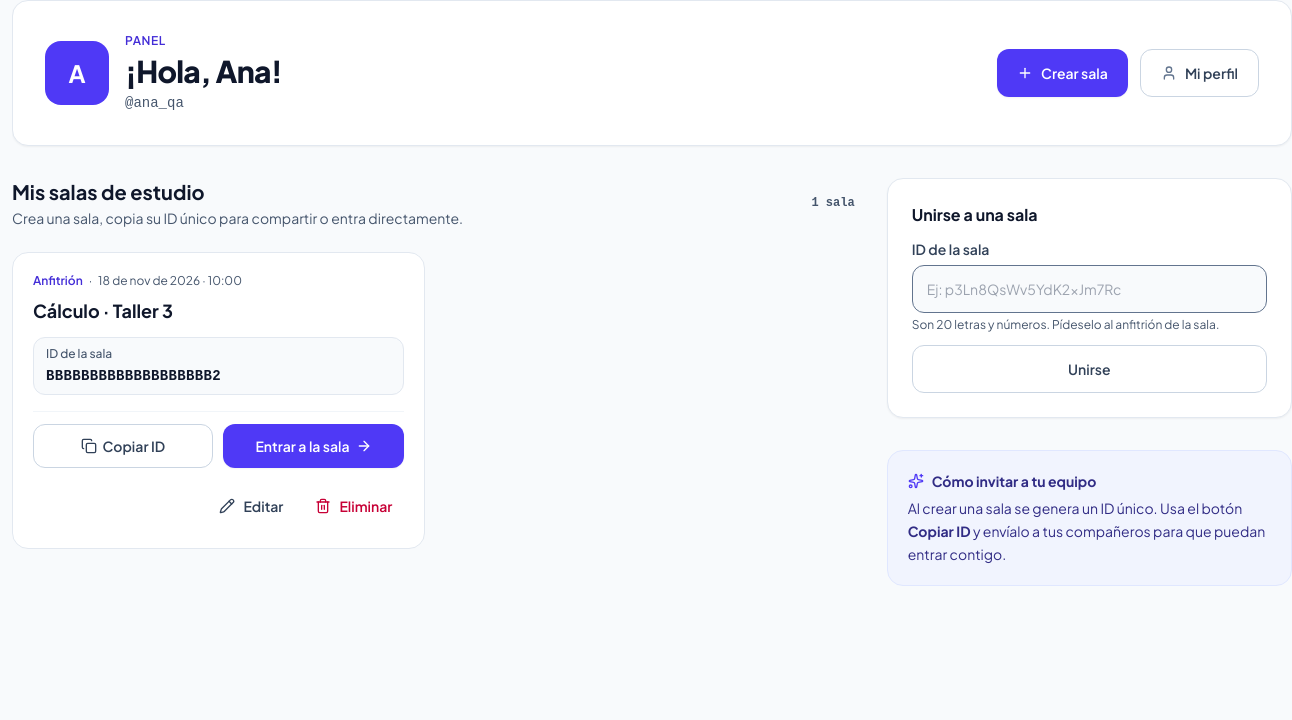
Test: US-06 | E4 | copiar el ID › si el navegador bloquea el portapapeles lo informa en vez de fingir éxito
The image size is (1292, 720).
Click the button with aria-label "Copiar ID de la sala Cálculo · Taller 3".
click(123, 446)  # box [33, 424, 213, 468]
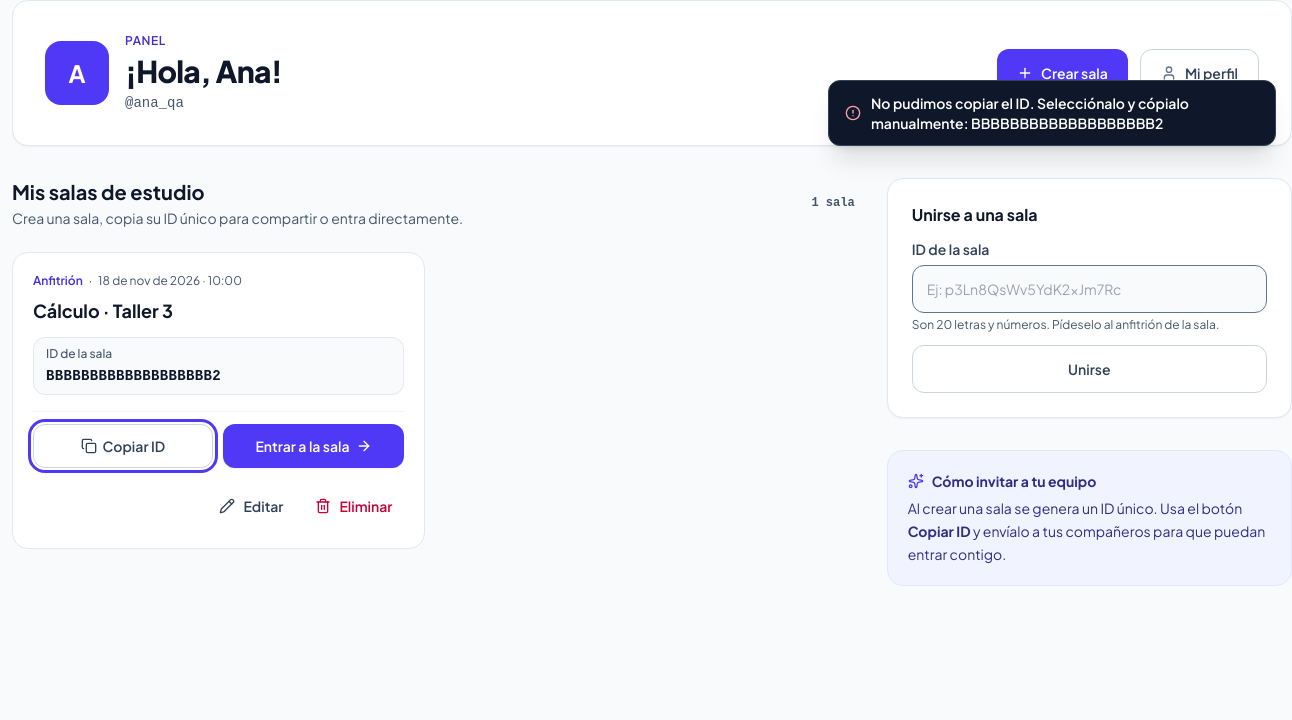
Now the text "No pudimos copiar el ID" is shown, box [871, 94, 1189, 132]
